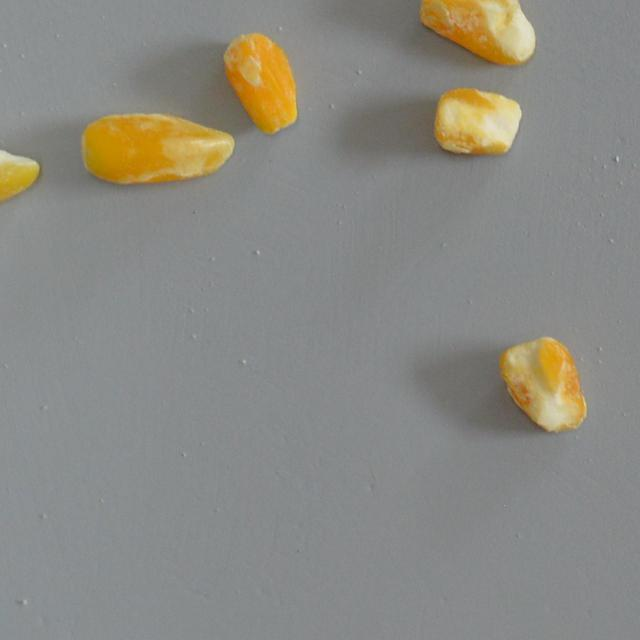pelicula: (110, 76, 204, 224), (507, 330, 586, 437), (236, 23, 300, 136), (434, 76, 514, 166), (436, 0, 534, 72), (0, 112, 17, 246)
